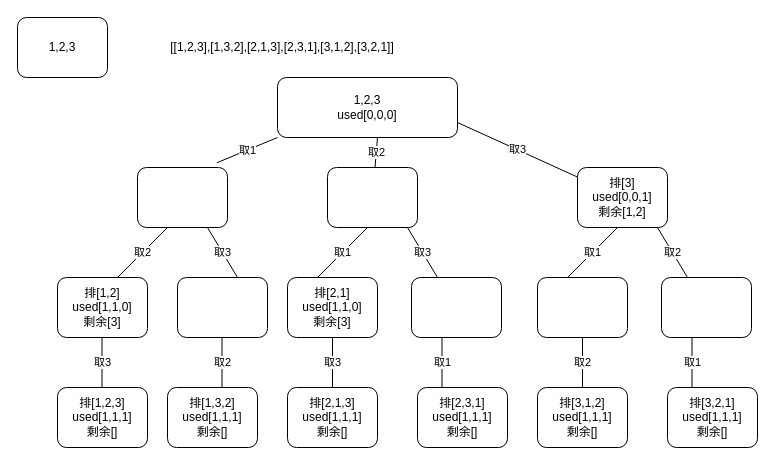
This 775x465 diagram has some shape labels left out. The shapes that lost their labels are listed below. From the top down, each one's box as (x1, y1, x2, y2) in pixels, then its label:
(136, 166, 228, 228): 排[1] used[1,0,0] 剩余[2,3]
(326, 166, 418, 228): 排[2] used[0,1,0] 剩余[1,3]
(176, 276, 268, 338): 排[1,3] used[1,0,1] 剩余[2]
(410, 276, 502, 338): 排[2,3] used[0,1,1] 剩余[2]
(536, 276, 628, 338): 排[3,1] used[1,0,1] 剩余[2]
(660, 276, 752, 338): 排[3,2] used[0,1,1] 剩余[1]
